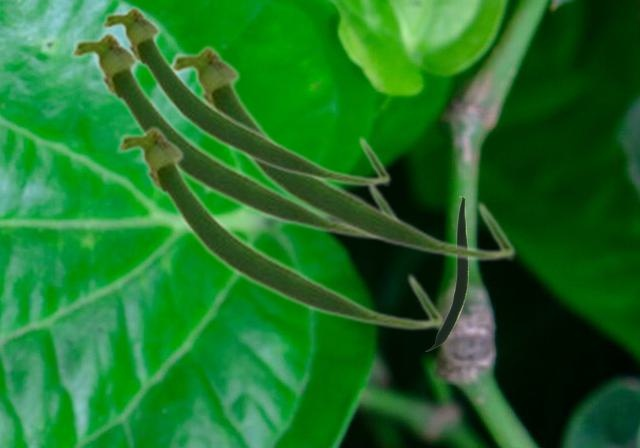french_bean: (168, 42, 516, 262), (68, 30, 398, 240), (114, 123, 444, 331), (99, 3, 391, 187), (425, 196, 467, 350)
